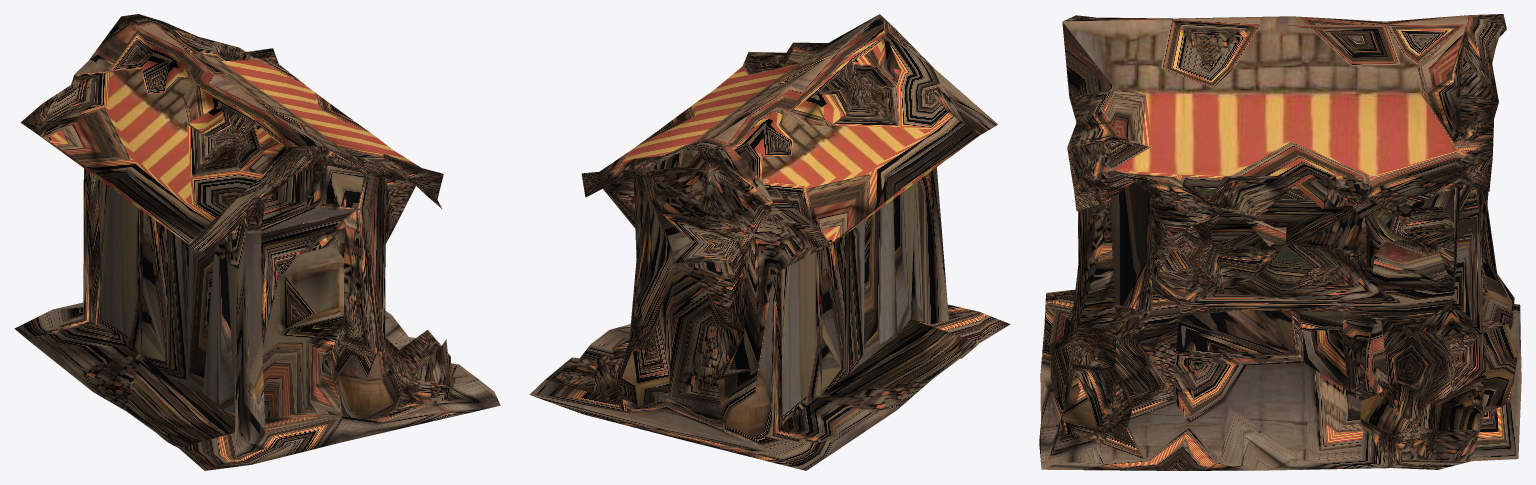
File: meshy_shed_striped_awning_lod1.glb
3 views of the same model, side by side, from view 1: azimuth 30°, elevation 25°; view 2: azimuth 150°, elevation 25°; view 3: azimuth 270°, elevation 25° (orthographic). The views are drawn at different scales.
Size of the model in its own units: 3.37 by 3.18 by 3.95.
Materials: 1 (1 with a texture image).
